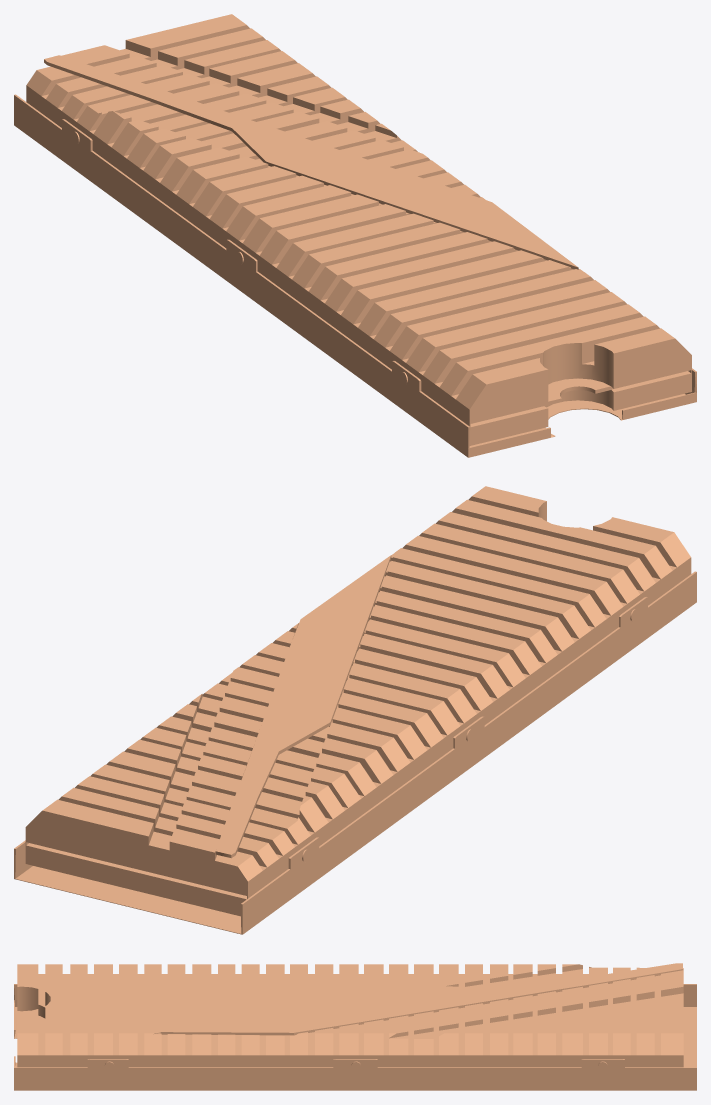
The model's file is PC_ssd.fbx.
The picture shows the model from 3 angles, top to bottom: view 1: azimuth 30°, elevation 25°; view 2: azimuth 150°, elevation 25°; view 3: azimuth 270°, elevation 25°; orthographic projection. The views are drawn at different scales.
Parts seen in each view (by area): view 1: Box003_03 - Default_0; view 2: Box003_03 - Default_0; view 3: Box003_03 - Default_0.
Boxes of the visible parts, box(x1,y1,x2,y2) form: Box003_03 - Default_0: box(14, 14, 696, 457); Box003_03 - Default_0: box(14, 486, 696, 934); Box003_03 - Default_0: box(14, 963, 696, 1090).
Size of the model in its own units: 244 by 68.71 by 831.
